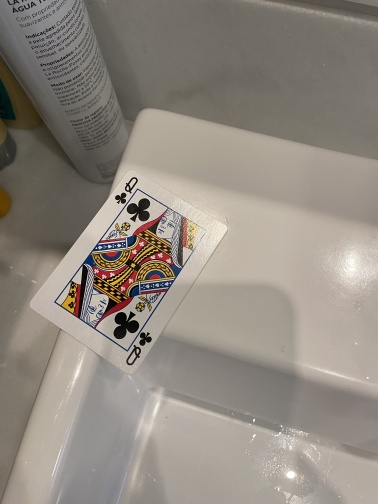queen: (28, 170, 228, 375)
